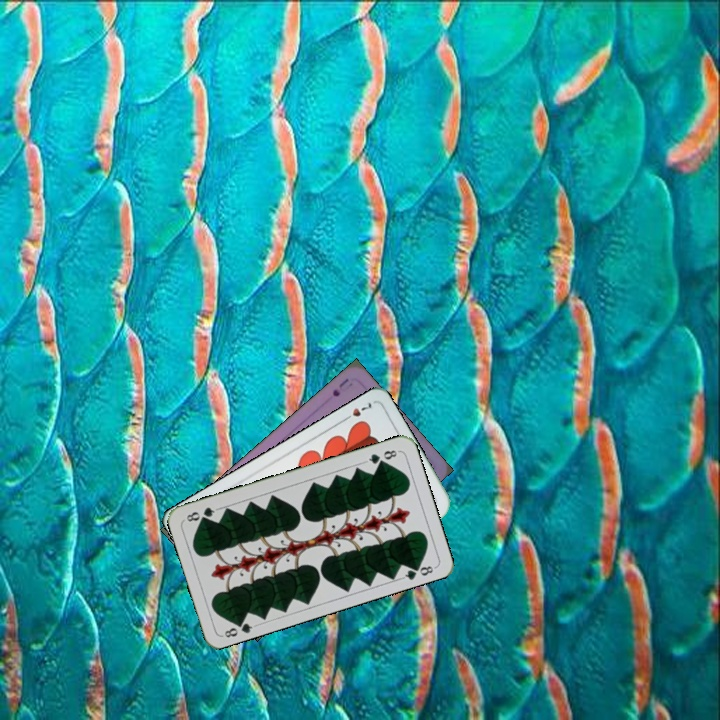G8: (220, 615, 259, 640), (362, 446, 401, 467)
H7: (339, 398, 374, 424)
SU: (328, 374, 351, 399)
